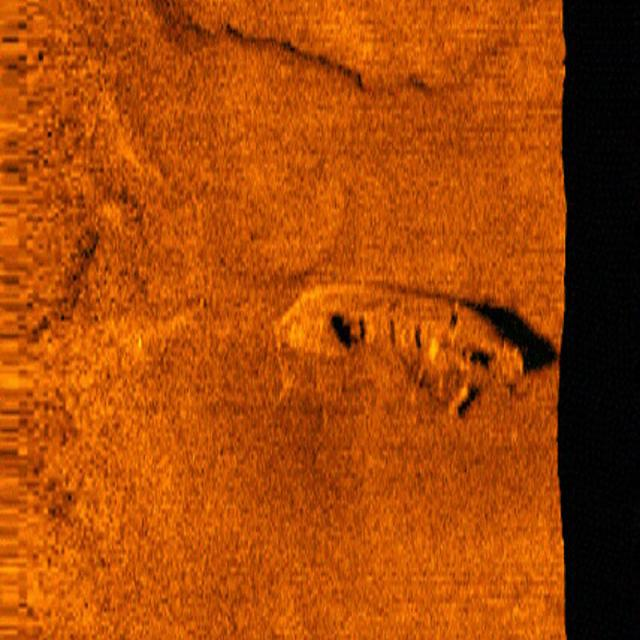ship: (275, 275, 529, 414)
